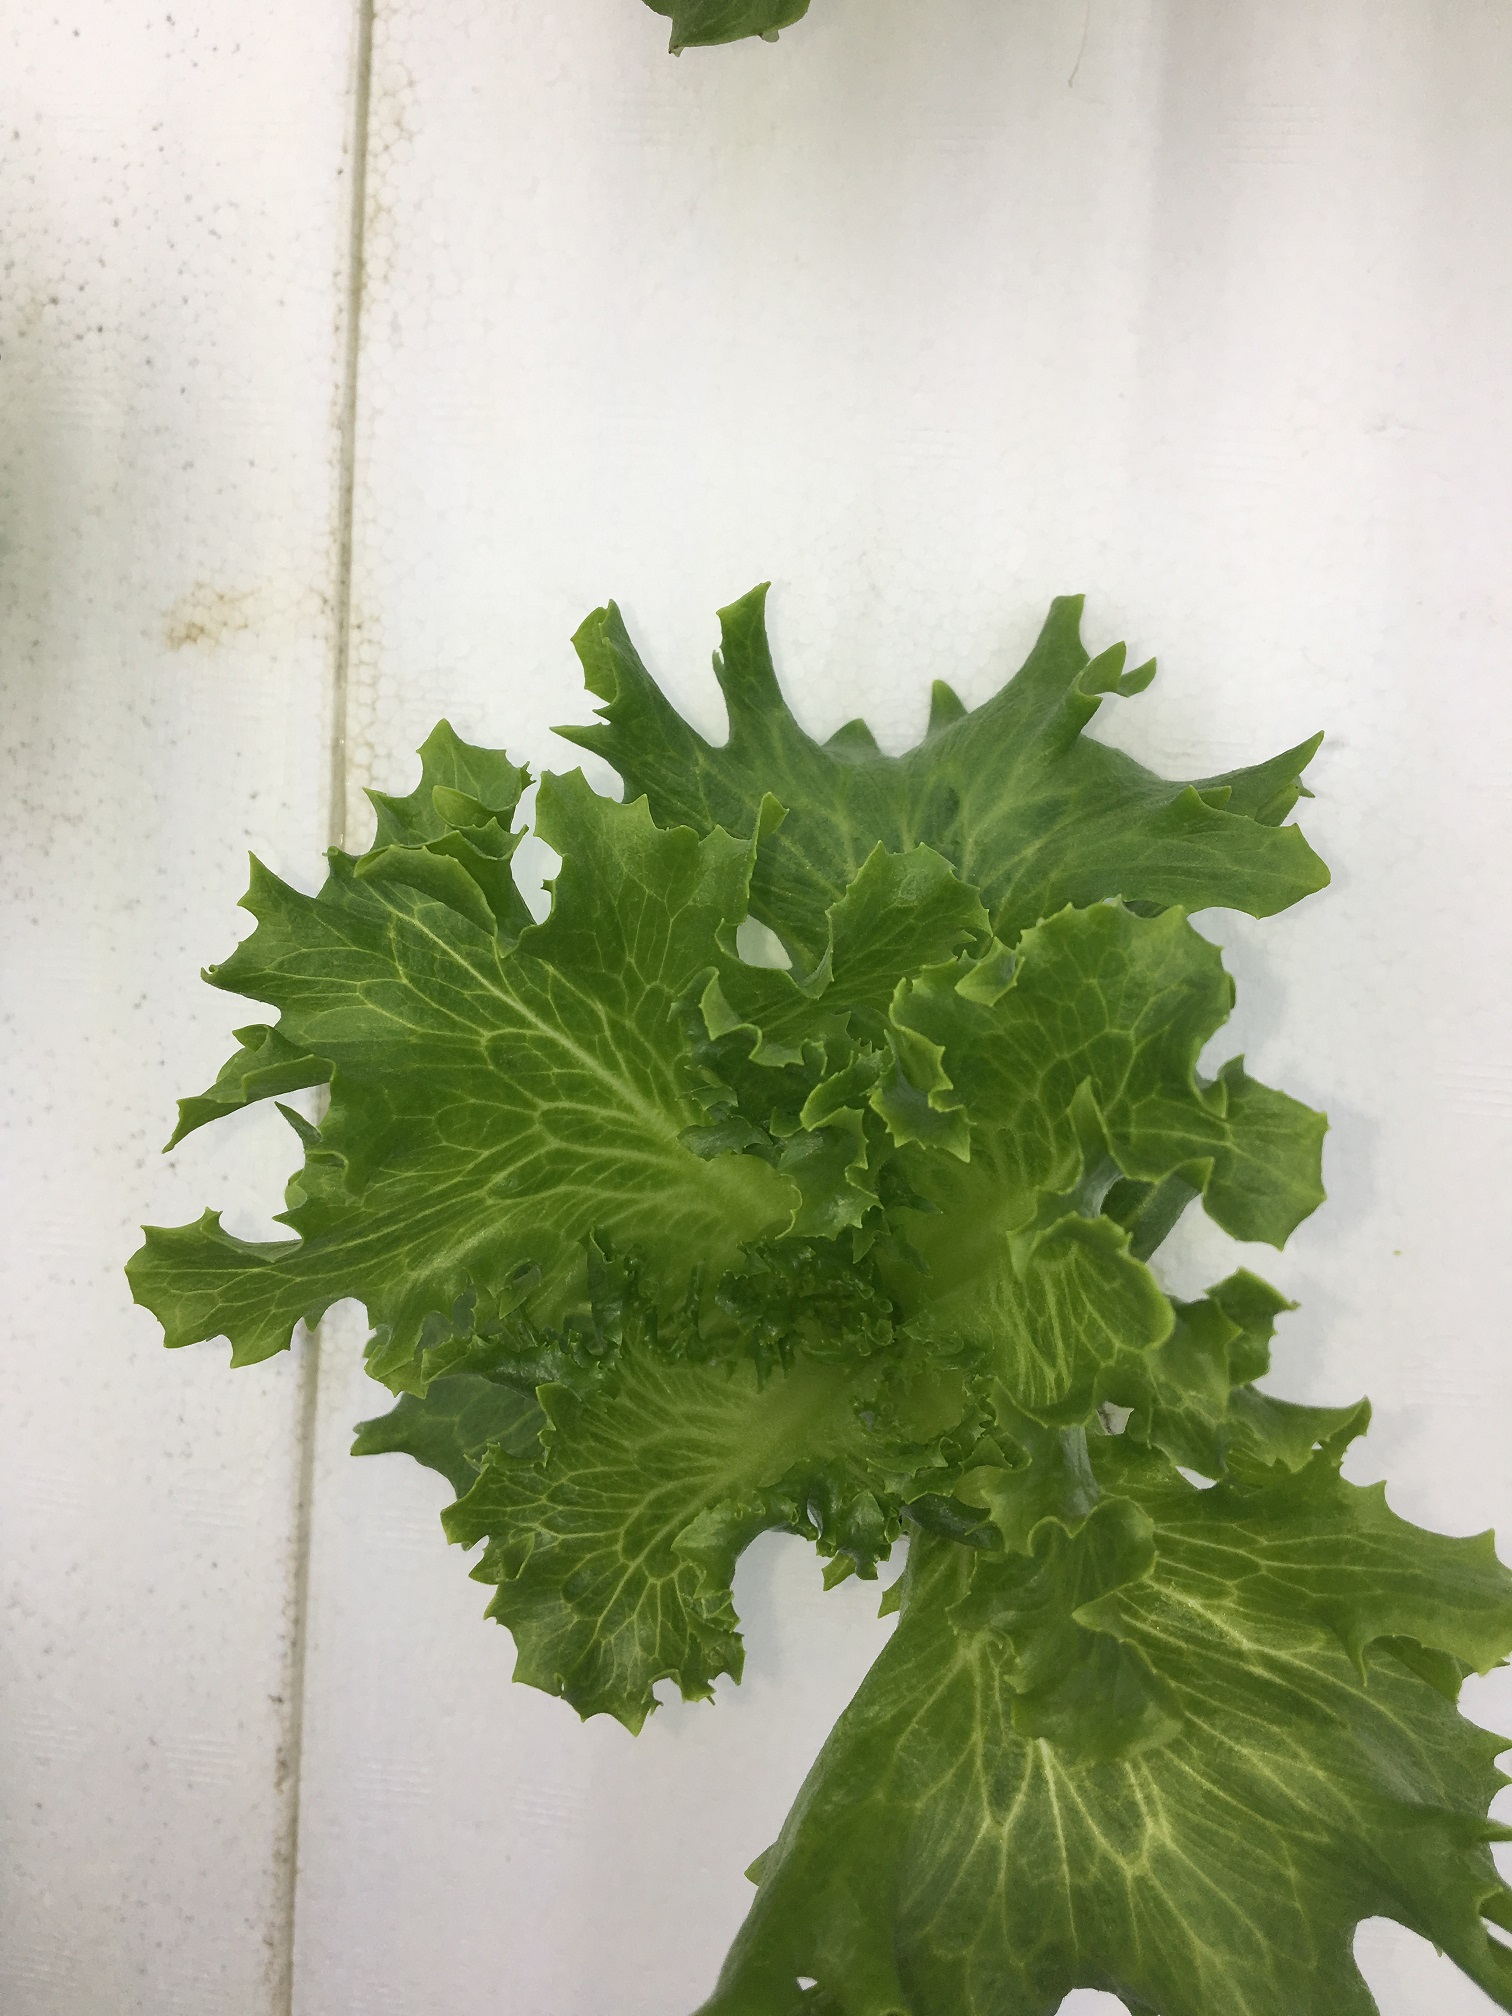tipburn: (743, 22, 781, 56), (654, 38, 691, 71)
